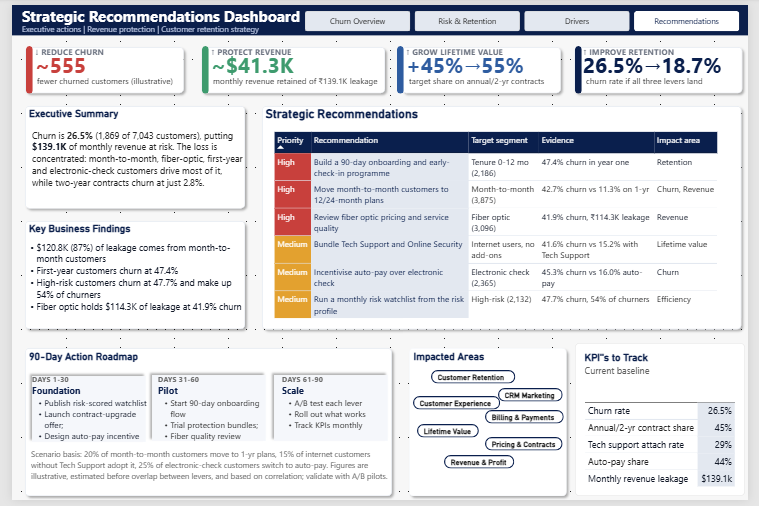

The page's visual inventory and layout, read from the dashboard file:
{"tool":"powerbi","page":{"name":"Recommendations","canvas":[1310,880],"ordinal":3},"visuals":[{"type":"shape","box":[990,65,317,100],"z":0},{"type":"shape","box":[0,0,1310,54],"z":1000},{"type":"textbox","box":[18,1,600,40],"z":2000},{"type":"pageNavigator","box":[520,10,775,36],"z":3000},{"type":"textbox","box":[18,34,600,20],"z":4000},{"type":"shape","box":[14,65,300,100],"z":5000},{"type":"shape","box":[24,72,12,85],"z":6000},{"type":"textbox","box":[40,72,280,25],"z":7000},{"type":"textbox","box":[40,80,100,60],"z":8000},{"type":"textbox","box":[45,125,300,30],"z":9000},{"type":"shape","box":[327,65,345,100],"z":10000},{"type":"shape","box":[337,72,12,85],"z":11000},{"type":"textbox","box":[353,72,280,25],"z":12000},{"type":"textbox","box":[353,80,180,50],"z":13000},{"type":"textbox","box":[358,125,300,30],"z":14000},{"type":"shape","box":[685,65,300,100],"z":15000},{"type":"shape","box":[685,72,12,85],"z":16000},{"type":"textbox","box":[700,72,220,25],"z":17000},{"type":"textbox","box":[700,80,220,50],"z":18000},{"type":"textbox","box":[705,125,280,25],"z":19000},{"type":"textbox","box":[1015,72,300,150],"z":20000},{"type":"shape","box":[1000,72,12,85],"z":21000},{"type":"textbox","box":[1015,80,250,50],"z":22000},{"type":"textbox","box":[1020,125,250,25],"z":23000},{"type":"shape","box":[14,170,409,200],"z":24000},{"type":"textbox","box":[35,220,382,112],"z":25000},{"type":"shape","box":[14,375,409,210],"z":26000},{"type":"textbox","box":[20,420,400,130],"z":27000},{"type":"shape","box":[436,170,870,415],"z":28000},{"type":"tableEx","fields":{"Values":["Recs.Priority","Recs.Recommendation","Recs.Target segment","Recs.Evidence","Recs.Impact area"]},"box":[450,212,840,362],"z":29000},{"type":"shape","box":[14,600,670,281],"z":30000},{"type":"shape","title":"DAYS 1-30","box":[27,650,220,135],"z":31000},{"type":"textbox","box":[35,656,215,120],"z":32000},{"type":"shape","title":"DAYS 1-30","box":[240,648,220,135],"z":32001},{"type":"shape","title":"DAYS 1-30","box":[456,648,220,135],"z":32002},{"type":"textbox","box":[260,656,200,120],"z":32003},{"type":"textbox","box":[480,656,215,120],"z":32004},{"type":"textbox","box":[33,790,640,100],"z":32005},{"type":"shape","box":[696,600,298,281],"z":32006},{"type":"actionButton","box":[744,648,150,24],"z":32007},{"type":"actionButton","box":[712,695,155,24],"z":32008},{"type":"actionButton","box":[720,744,110,24],"z":32009},{"type":"actionButton","box":[768,800,125,24],"z":32010},{"type":"actionButton","box":[840,720,140,24],"z":32011},{"type":"actionButton","box":[864,680,115,24],"z":32012},{"type":"actionButton","box":[840,768,138,24],"z":32013},{"type":"tableEx","title":"KPI''''s to Track","fields":{"Values":["KPI's.Metric","KPI's.Baseline"]},"box":[1000,600,302,272],"z":32014}]}

Visuals, with their boxes in screenshot pixels (x1, y1, x2, y2), scaled from the page's 1310x880 canvas onto the 759x506 screenshot:
shape: BBox(574, 37, 757, 95)
shape: BBox(0, 0, 758, 31)
textbox: BBox(10, 1, 358, 24)
pageNavigator: BBox(301, 6, 750, 26)
textbox: BBox(10, 20, 358, 31)
shape: BBox(8, 37, 182, 95)
shape: BBox(14, 41, 21, 90)
textbox: BBox(23, 41, 185, 56)
textbox: BBox(23, 46, 81, 80)
textbox: BBox(26, 72, 200, 89)
shape: BBox(189, 37, 389, 95)
shape: BBox(195, 41, 202, 90)
textbox: BBox(205, 41, 367, 56)
textbox: BBox(205, 46, 309, 75)
textbox: BBox(207, 72, 381, 89)
shape: BBox(397, 37, 571, 95)
shape: BBox(397, 41, 404, 90)
textbox: BBox(406, 41, 533, 56)
textbox: BBox(406, 46, 533, 75)
textbox: BBox(408, 72, 571, 86)
textbox: BBox(588, 41, 758, 128)
shape: BBox(579, 41, 586, 90)
textbox: BBox(588, 46, 733, 75)
textbox: BBox(591, 72, 736, 86)
shape: BBox(8, 98, 245, 213)
textbox: BBox(20, 126, 242, 191)
shape: BBox(8, 216, 245, 336)
textbox: BBox(12, 241, 243, 316)
shape: BBox(253, 98, 757, 336)
tableEx - Recs.Priority x Recs.Recommendation: BBox(261, 122, 747, 330)
shape: BBox(8, 345, 396, 505)
"DAYS 1-30" shape: BBox(16, 374, 143, 451)
textbox: BBox(20, 377, 145, 446)
"DAYS 1-30" shape: BBox(139, 373, 267, 450)
"DAYS 1-30" shape: BBox(264, 373, 392, 450)
textbox: BBox(151, 377, 267, 446)
textbox: BBox(278, 377, 403, 446)
textbox: BBox(19, 454, 390, 505)
shape: BBox(403, 345, 576, 505)
actionButton: BBox(431, 373, 518, 386)
actionButton: BBox(413, 400, 502, 413)
actionButton: BBox(417, 428, 481, 442)
actionButton: BBox(445, 460, 517, 474)
actionButton: BBox(487, 414, 568, 428)
actionButton: BBox(501, 391, 567, 405)
actionButton: BBox(487, 442, 567, 455)
"KPI''''s to Track" tableEx: BBox(579, 345, 754, 501)
